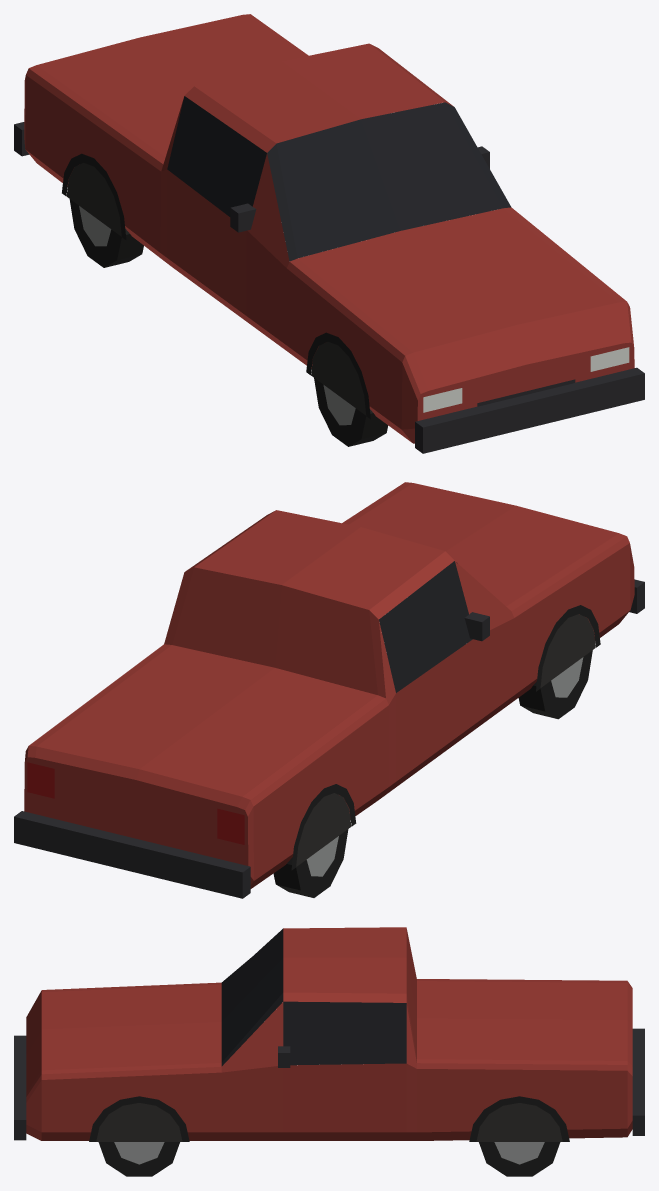
The model's file is town_pickup 2.gltf.
The picture shows the model from 3 angles, top to bottom: view 1: azimuth 30°, elevation 25°; view 2: azimuth 150°, elevation 25°; view 3: azimuth 270°, elevation 25°; orthographic projection. The views are drawn at different scales.
Visible parts, largest first — view 1: TownPickup_Body, TownPickup_Glass, TownPickup_Bumpers, TownPickup_Arches, TownPickup_Tyres, TownPickup_Rims, TownPickup_Headlights, TownPickup_Mirrors; view 2: TownPickup_Body, TownPickup_Bumpers, TownPickup_Glass, TownPickup_Arches, TownPickup_Tyres, TownPickup_Taillights, TownPickup_Rims, TownPickup_Mirrors; view 3: TownPickup_Body, TownPickup_Glass, TownPickup_Arches, TownPickup_Tyres, TownPickup_Bumpers, TownPickup_Rims.
Boxes of the visible parts, <box> form: TownPickup_Body: <box>24,14,634,443</box>; TownPickup_Glass: <box>167,96,511,261</box>; TownPickup_Bumpers: <box>14,122,644,453</box>; TownPickup_Arches: <box>62,153,370,419</box>; TownPickup_Tyres: <box>69,199,388,446</box>; TownPickup_Rims: <box>79,206,355,425</box>; TownPickup_Headlights: <box>423,347,629,412</box>; TownPickup_Mirrors: <box>230,146,489,232</box>; TownPickup_Body: <box>24,482,634,888</box>; TownPickup_Bumpers: <box>14,579,644,898</box>; TownPickup_Glass: <box>379,561,472,692</box>; TownPickup_Arches: <box>291,605,600,870</box>; TownPickup_Tyres: <box>273,650,592,897</box>; TownPickup_Taillights: <box>27,762,244,844</box>; TownPickup_Rims: <box>306,657,583,876</box>; TownPickup_Mirrors: <box>464,612,489,641</box>; TownPickup_Body: <box>26,927,632,1140</box>; TownPickup_Glass: <box>221,928,406,1066</box>; TownPickup_Arches: <box>89,1096,569,1141</box>; TownPickup_Tyres: <box>98,1142,560,1176</box>; TownPickup_Bumpers: <box>14,1028,644,1140</box>; TownPickup_Rims: <box>114,1142,544,1164</box>.
Size of what is drawn, in the model's own units: 2.2 by 1.89 by 6.14.
Materials: 1 (1 with a texture image).
